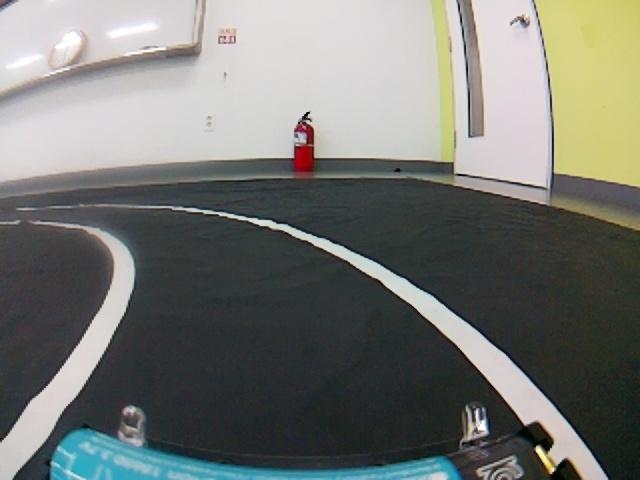left: (0, 195, 640, 480)
